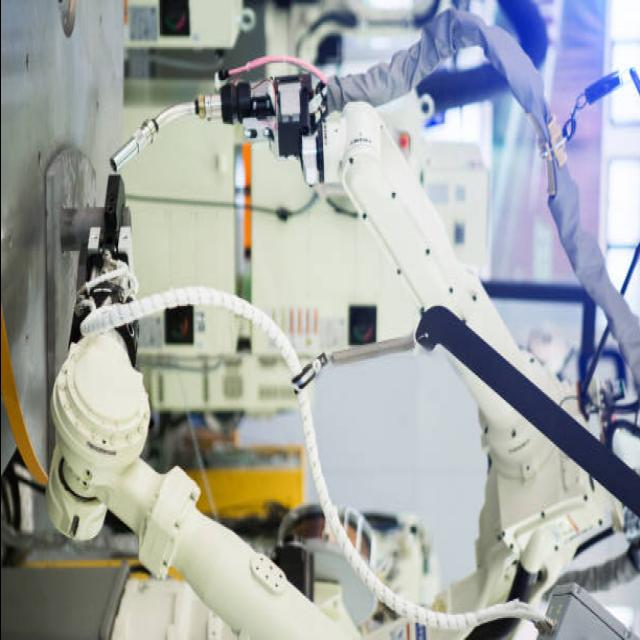Robotic-arm: (54, 102, 625, 640)
